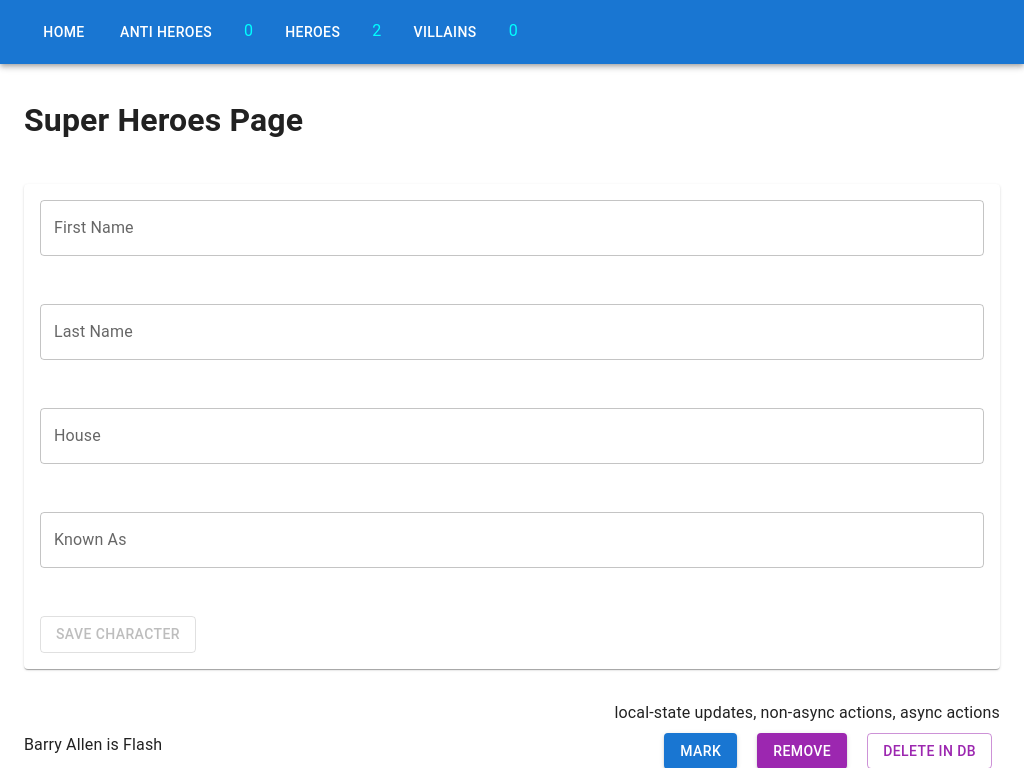
Heroes Page › should delete a hero from the database
The image size is (1024, 768).
Click the button with test id "delete-button" at (930, 751), box x1=867 y1=732 x2=992 y2=767
(page scrolled)
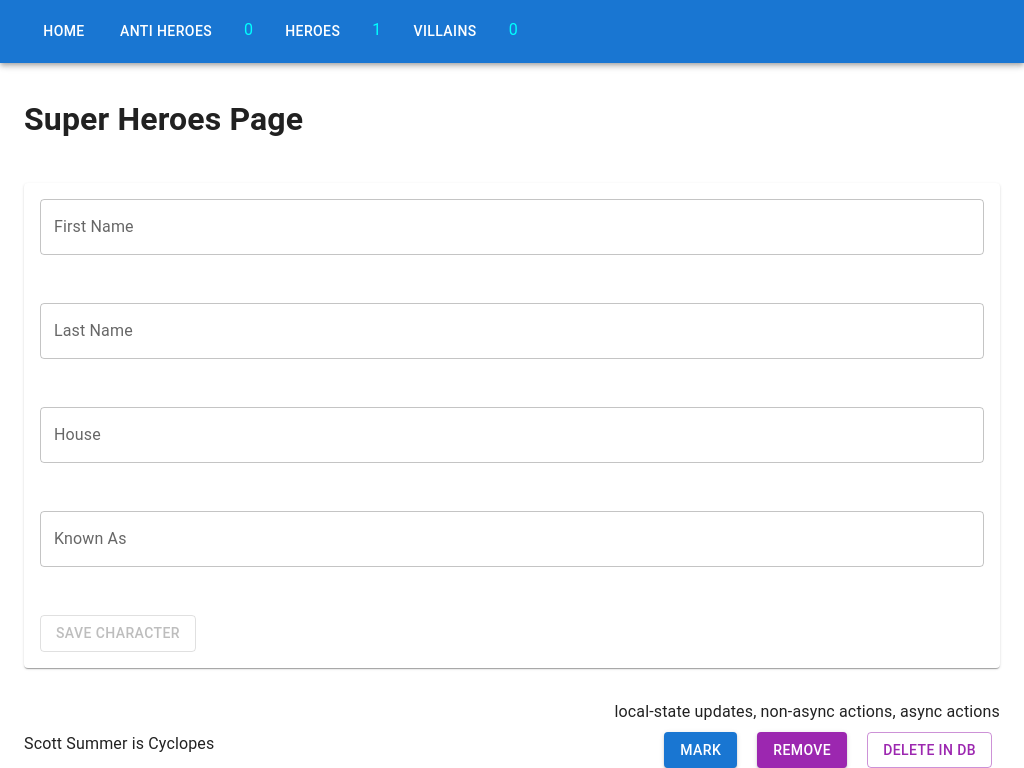
Expected: the element with test id "card" is shown, x1=24 y1=732 x2=1000 y2=767
Now the text with test id "total-heroes" reads "1", box x1=372 y1=20 x2=382 y2=39
